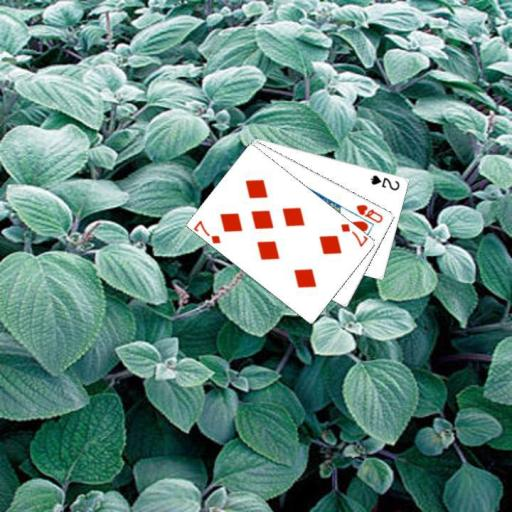2S: (368, 171, 401, 192)
7D: (191, 217, 223, 245), (338, 221, 369, 248)
QH: (353, 201, 385, 225)
